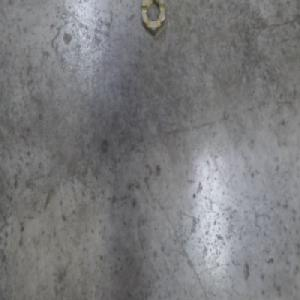Nut: (140, 0, 166, 38)
